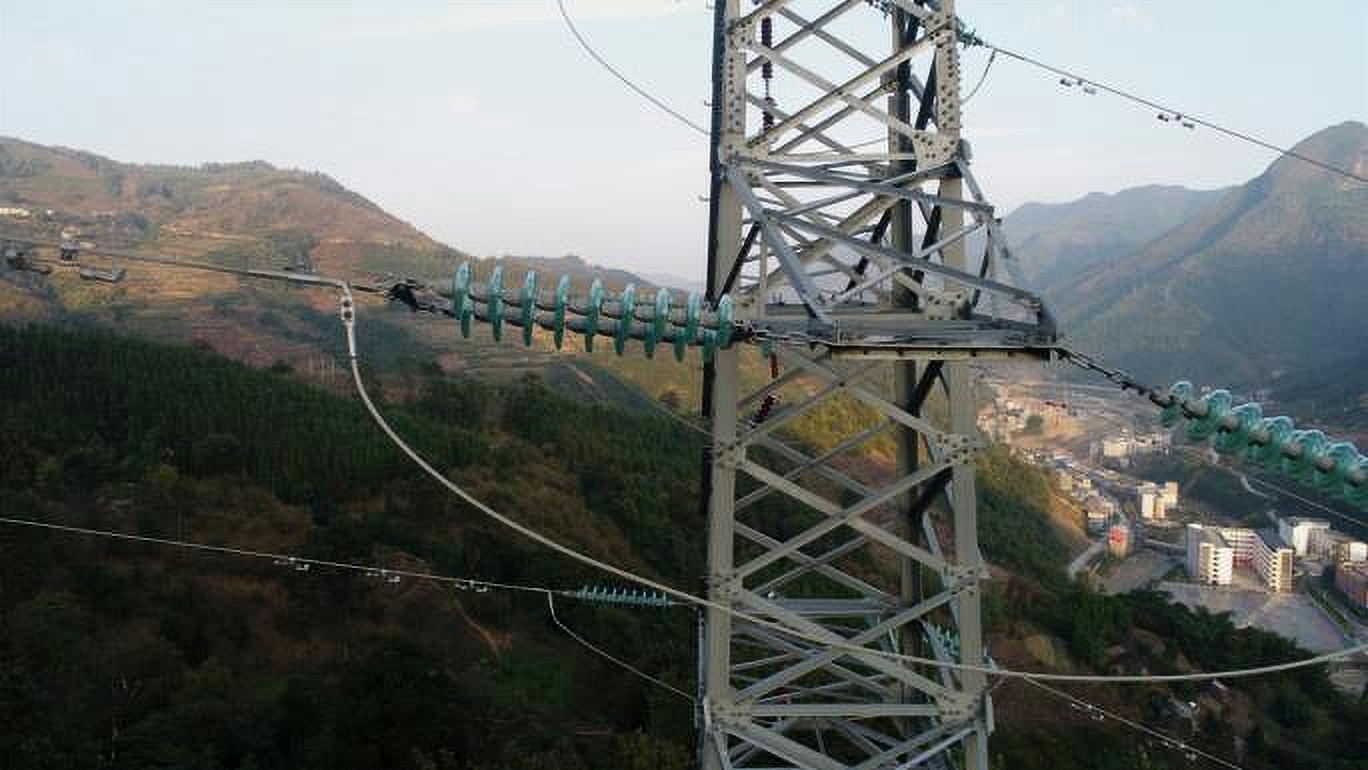insulator: (444, 256, 742, 369), (1150, 373, 1368, 514), (572, 580, 674, 615)
